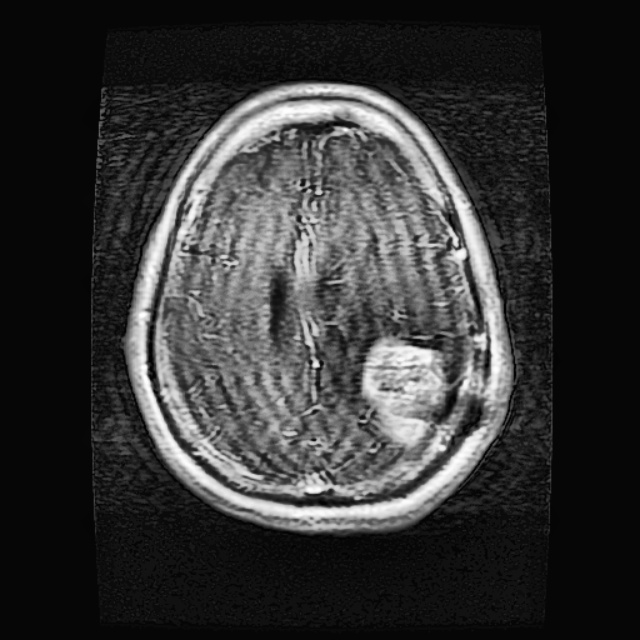Glioma: (357, 332, 450, 444)
